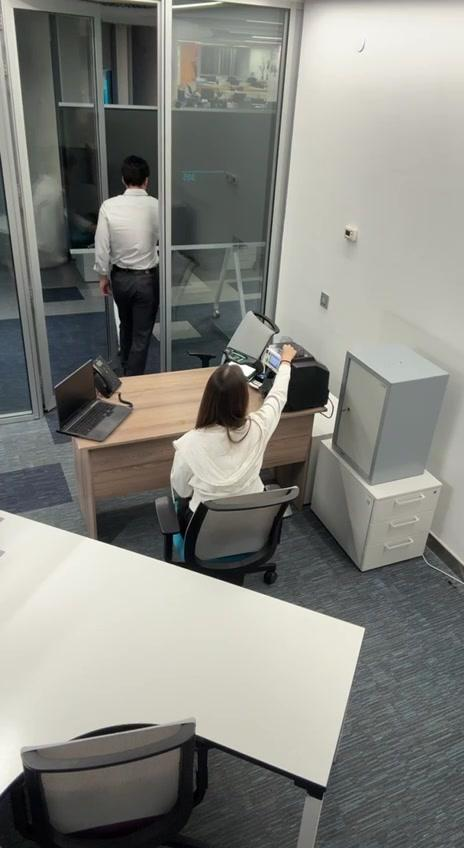counter: (261, 344, 329, 412)
door_open: (102, 3, 161, 373)
key_in: (336, 405, 353, 417)
uv_lamp: (221, 361, 254, 380)
